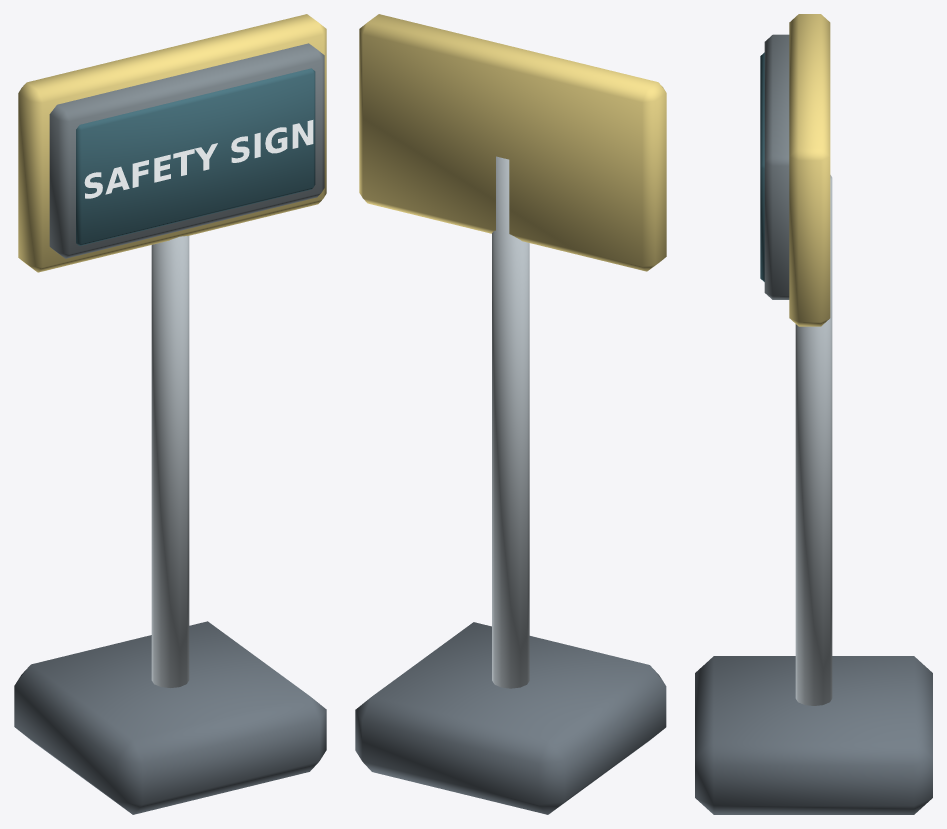
File: safety_sign_standard.glb
3 renders of one model, left to right at view 1: azimuth 30°, elevation 25°; view 2: azimuth 150°, elevation 25°; view 3: azimuth 270°, elevation 25°, orthographic.
Parts seen in each view (by area): view 1: Base_dark_legacy_0, SignPlate_glass, Pole_steel_legacy_1, Sign_yellow_legacy_2, ScreenMount_frame, TypeLabel_white; view 2: Sign_yellow_legacy_2, Base_dark_legacy_0, Pole_steel_legacy_1; view 3: Base_dark_legacy_0, Pole_steel_legacy_1, Sign_yellow_legacy_2, ScreenMount_frame, SignPlate_glass.
Part boxes in pixels (box(x1,y1,x2,y2)): Base_dark_legacy_0: box(14, 621, 326, 814); SignPlate_glass: box(76, 68, 315, 245); Pole_steel_legacy_1: box(151, 236, 189, 687); Sign_yellow_legacy_2: box(18, 14, 326, 272); ScreenMount_frame: box(49, 43, 324, 258); TypeLabel_white: box(84, 120, 313, 198); Sign_yellow_legacy_2: box(359, 14, 666, 271); Base_dark_legacy_0: box(355, 622, 666, 814); Pole_steel_legacy_1: box(492, 156, 529, 688); Base_dark_legacy_0: box(695, 656, 932, 814); Pole_steel_legacy_1: box(795, 175, 832, 705); Sign_yellow_legacy_2: box(789, 14, 830, 326); ScreenMount_frame: box(764, 34, 789, 299); SignPlate_glass: box(760, 52, 764, 281).
Size of the model in its own units: 0.82 by 1.86 by 0.58.
